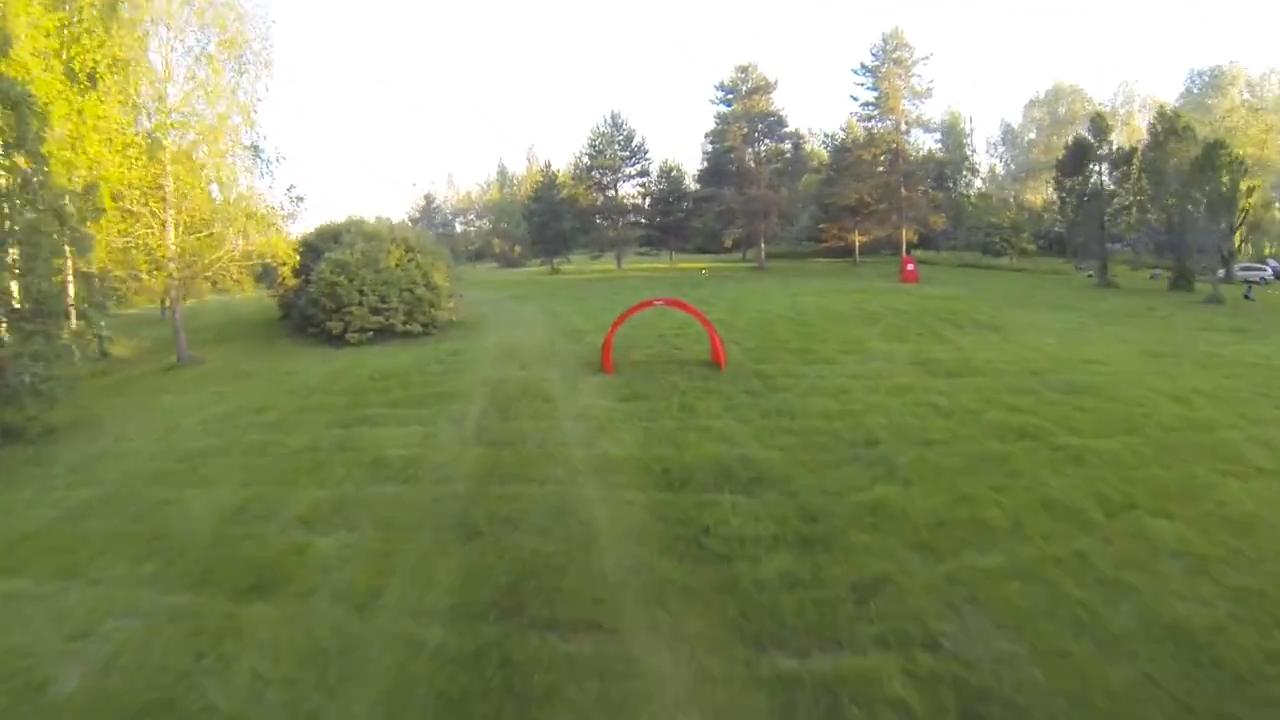gate: (597, 293, 735, 376)
